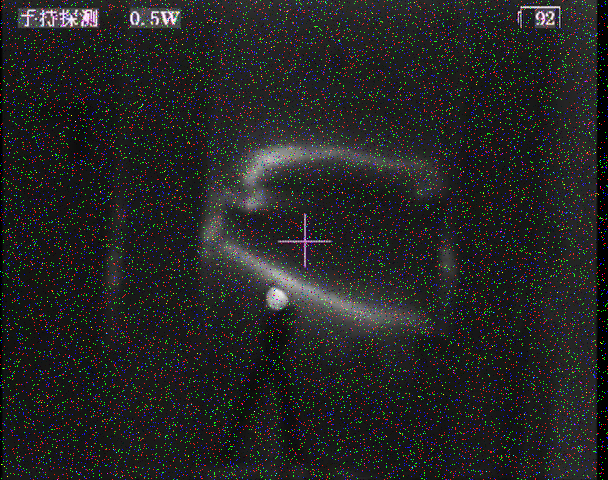my: (264, 285, 290, 309)
